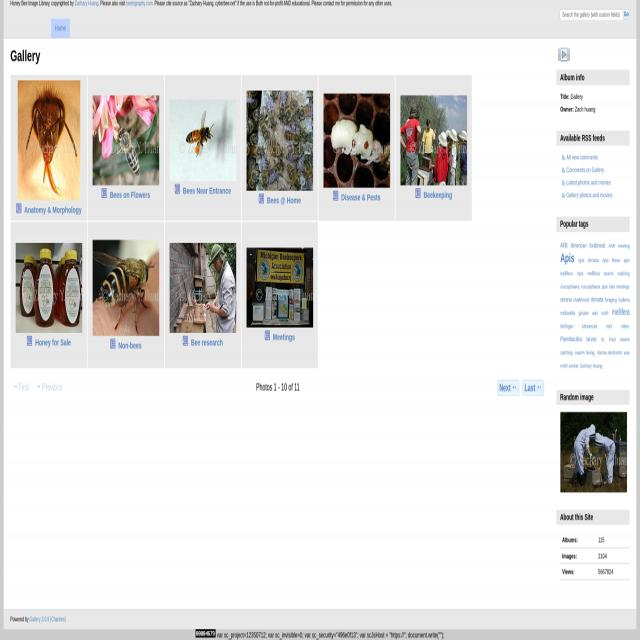button: (18, 81, 80, 200), (247, 90, 313, 190), (93, 239, 159, 336), (324, 93, 390, 188), (400, 96, 467, 186), (93, 96, 159, 186), (170, 242, 236, 332), (16, 242, 82, 332), (560, 411, 628, 493), (170, 100, 236, 182), (247, 248, 313, 328), (50, 19, 70, 38), (497, 380, 519, 396), (522, 380, 544, 396), (557, 46, 571, 63), (623, 9, 629, 19)
field: (560, 10, 622, 20)
